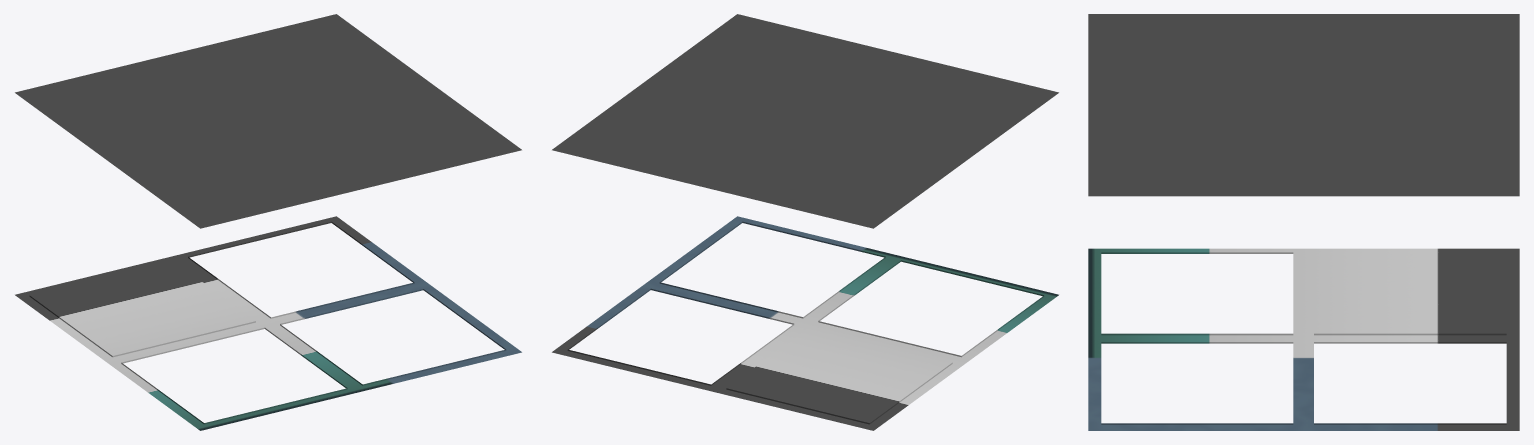
File: Ceiling_Broken_B_2x2.fbx
The picture shows the model from 3 angles, left to right: view 1: azimuth 30°, elevation 25°; view 2: azimuth 150°, elevation 25°; view 3: azimuth 270°, elevation 25°; orthographic projection. The views are drawn at different scales.
Visible parts, largest first — view 1: Ceiling_Broken_B_2x2; view 2: Ceiling_Broken_B_2x2; view 3: Ceiling_Broken_B_2x2.
Boxes of the visible parts, x1,y1,x2,y2 form: Ceiling_Broken_B_2x2: (15,14,521,430); Ceiling_Broken_B_2x2: (552,14,1058,430); Ceiling_Broken_B_2x2: (1088,14,1519,430).
Size of the model in its own units: 200 by 120 by 200.
